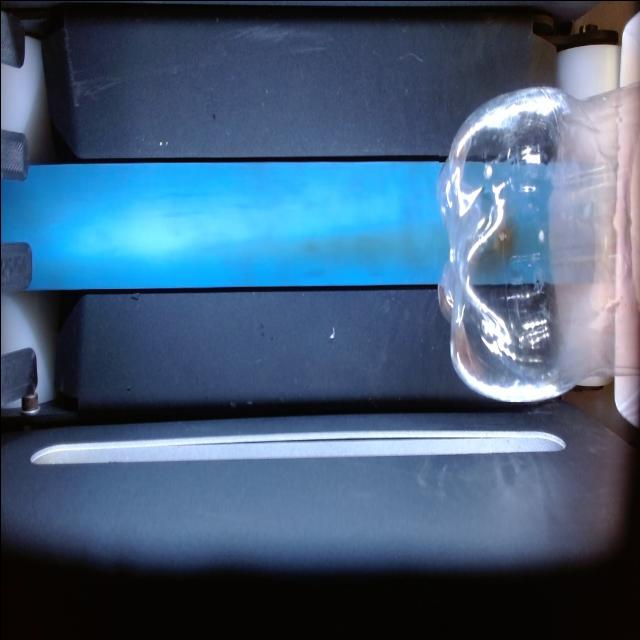bottle: (438, 84, 640, 400)
